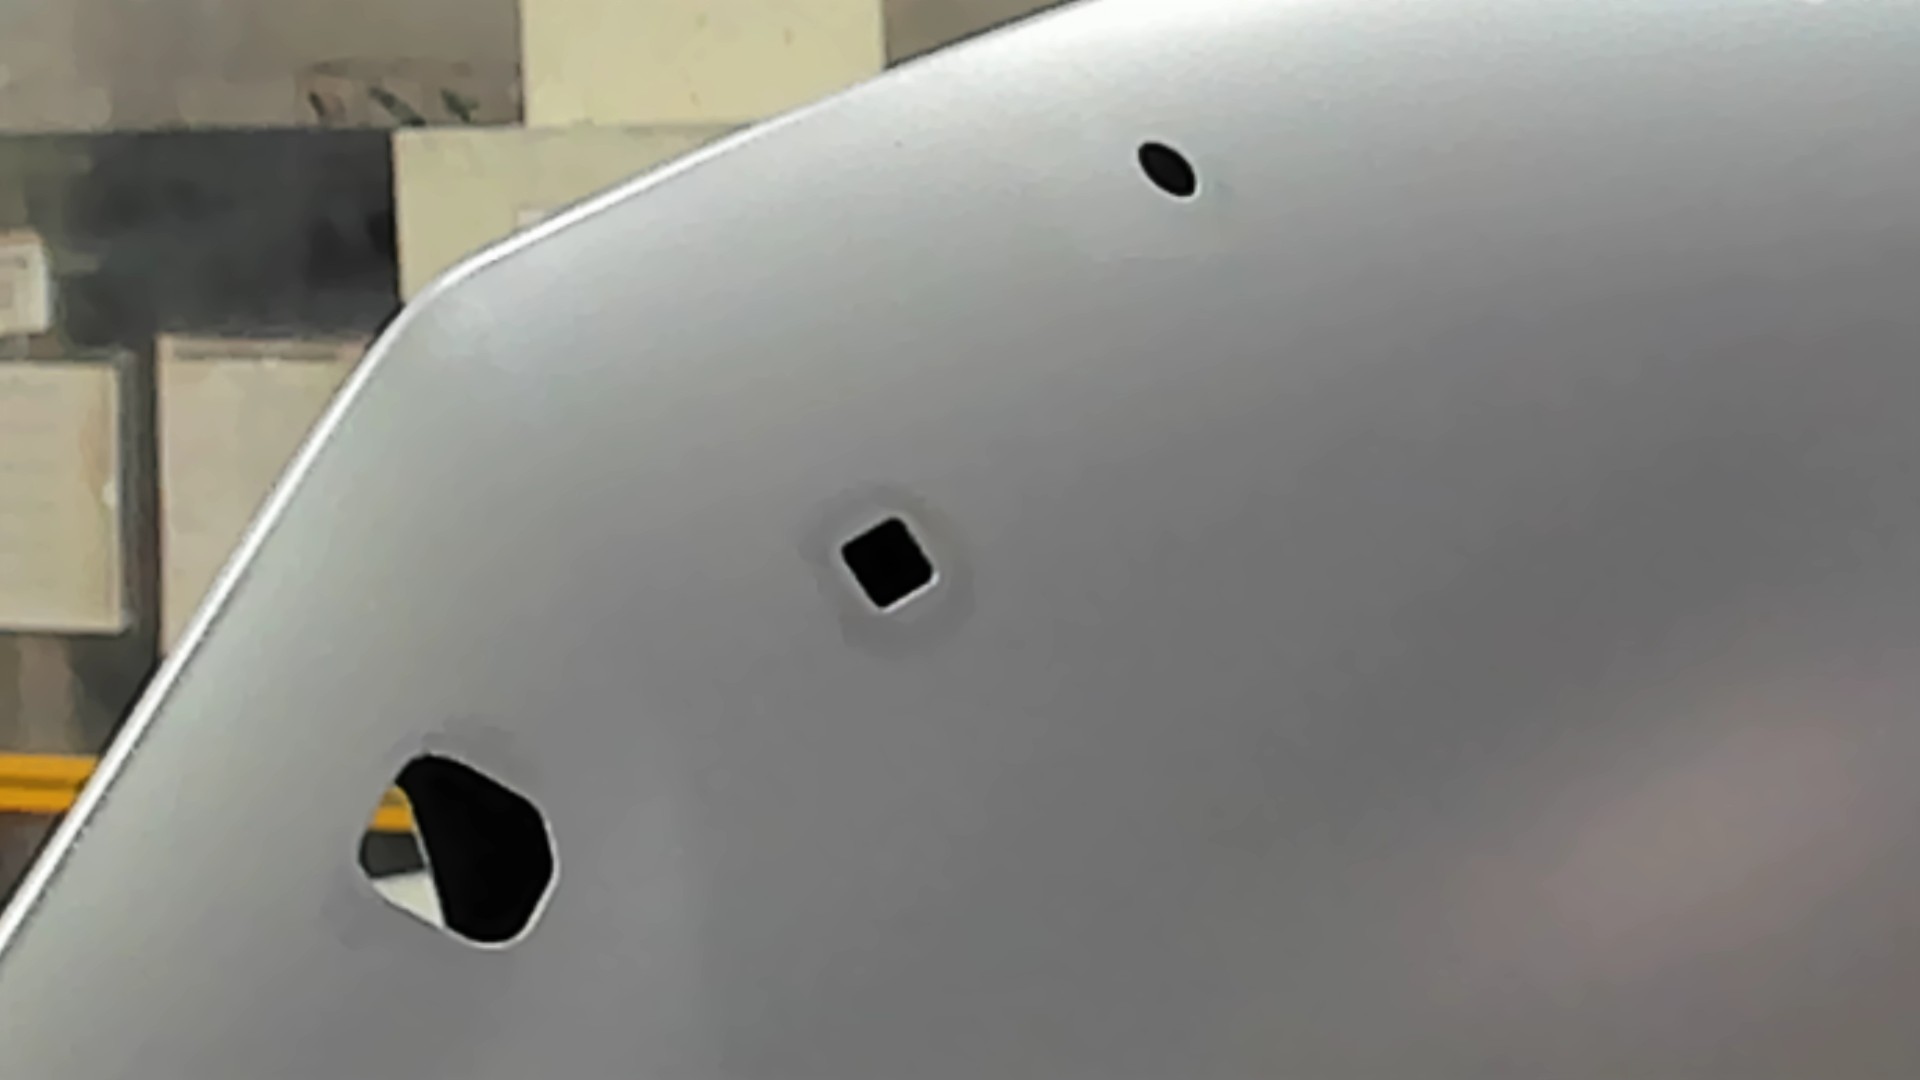capo: (947, 203, 1920, 1080)
chico: (1131, 132, 1207, 204)
grande: (345, 749, 566, 957)
mediano: (829, 509, 942, 618)
